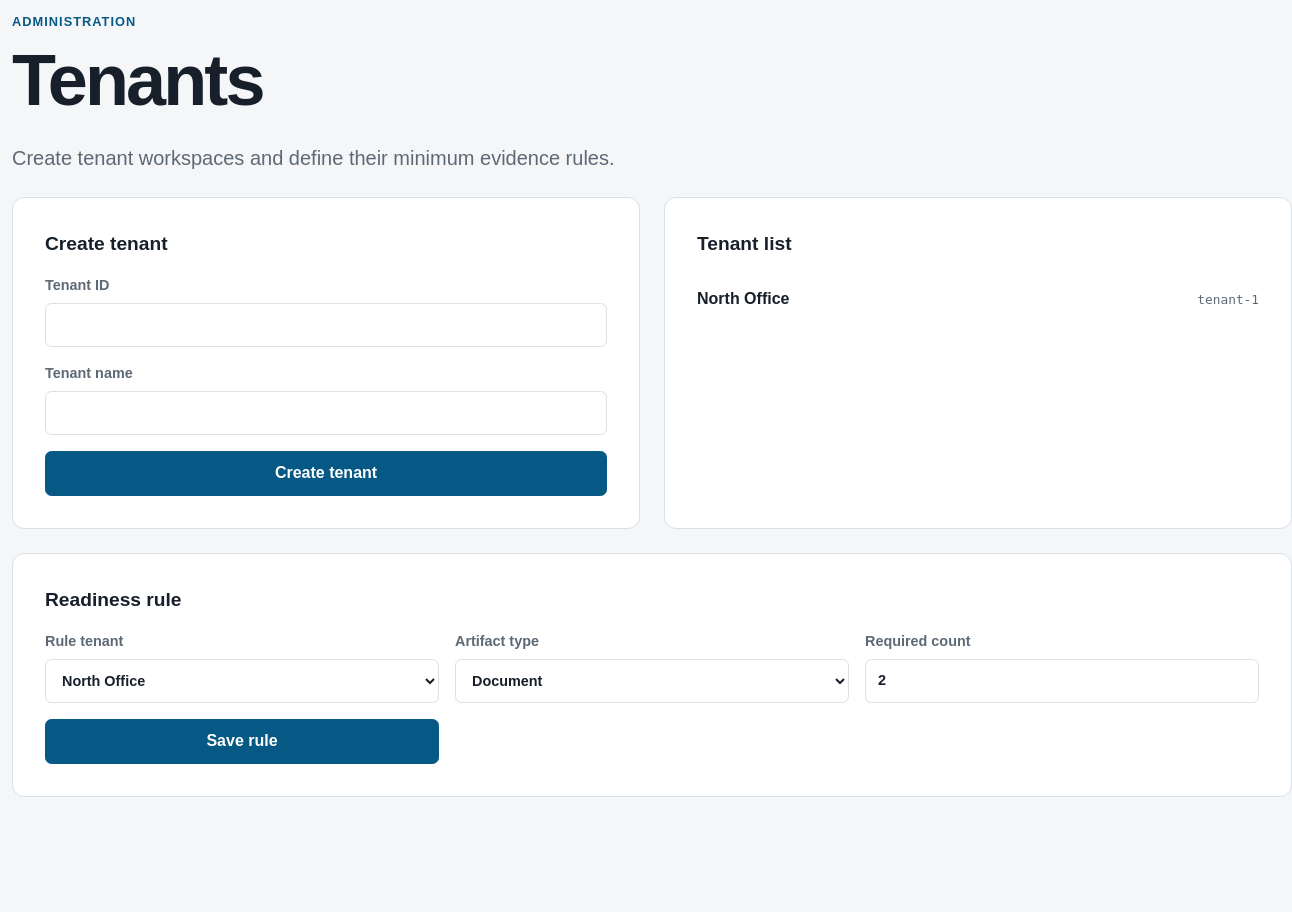
Test: TenantManager › loads and saves a count-at-least rule
Expected: the dropdown labelled "Artifact type" shows "Document", [455, 659, 849, 703]
Replace the text in the number field labelled "Required count" with "3" at (1062, 681), box [865, 659, 1259, 703]
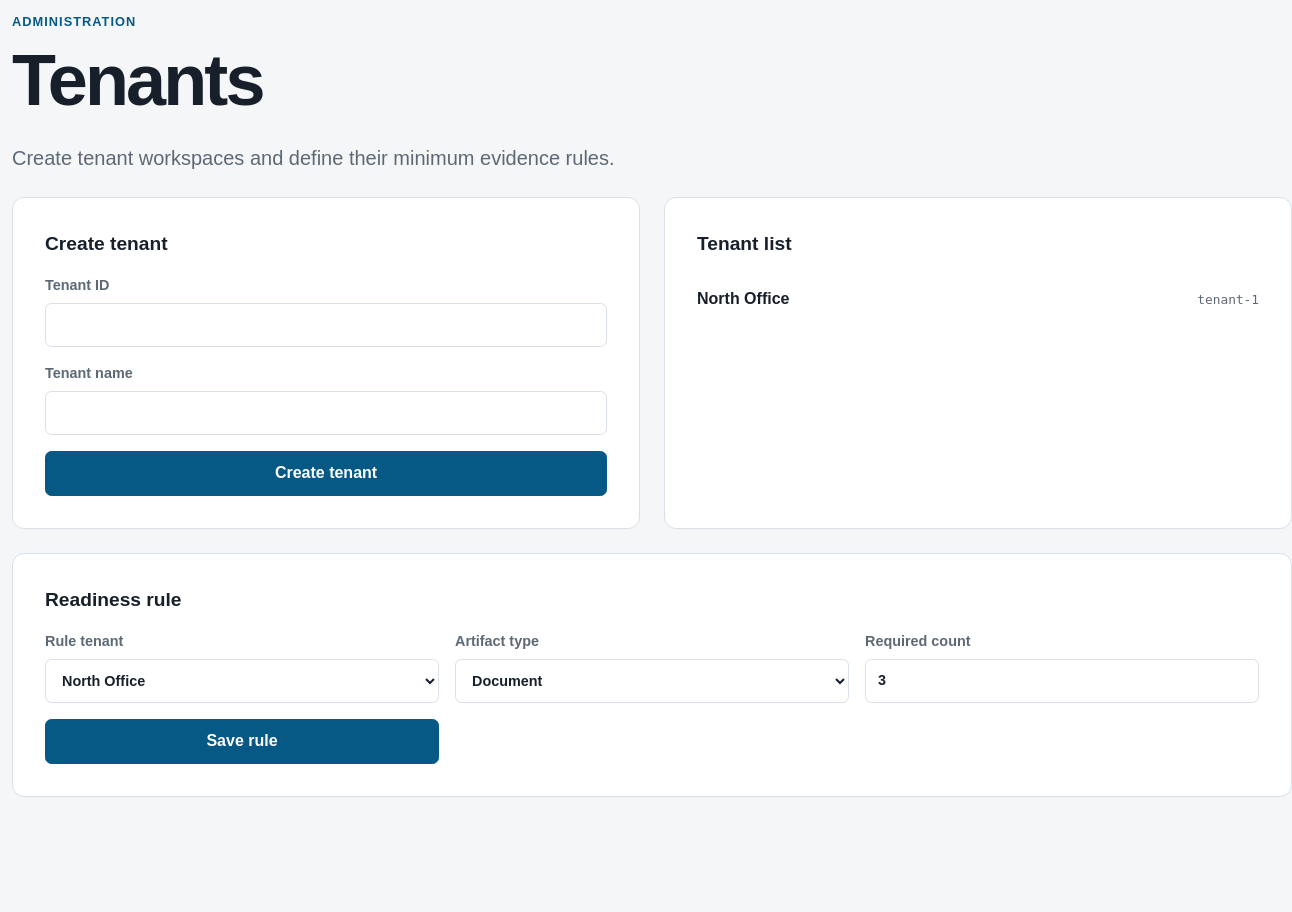
Click the button "Save rule".
click(242, 741)  # box [45, 719, 439, 764]
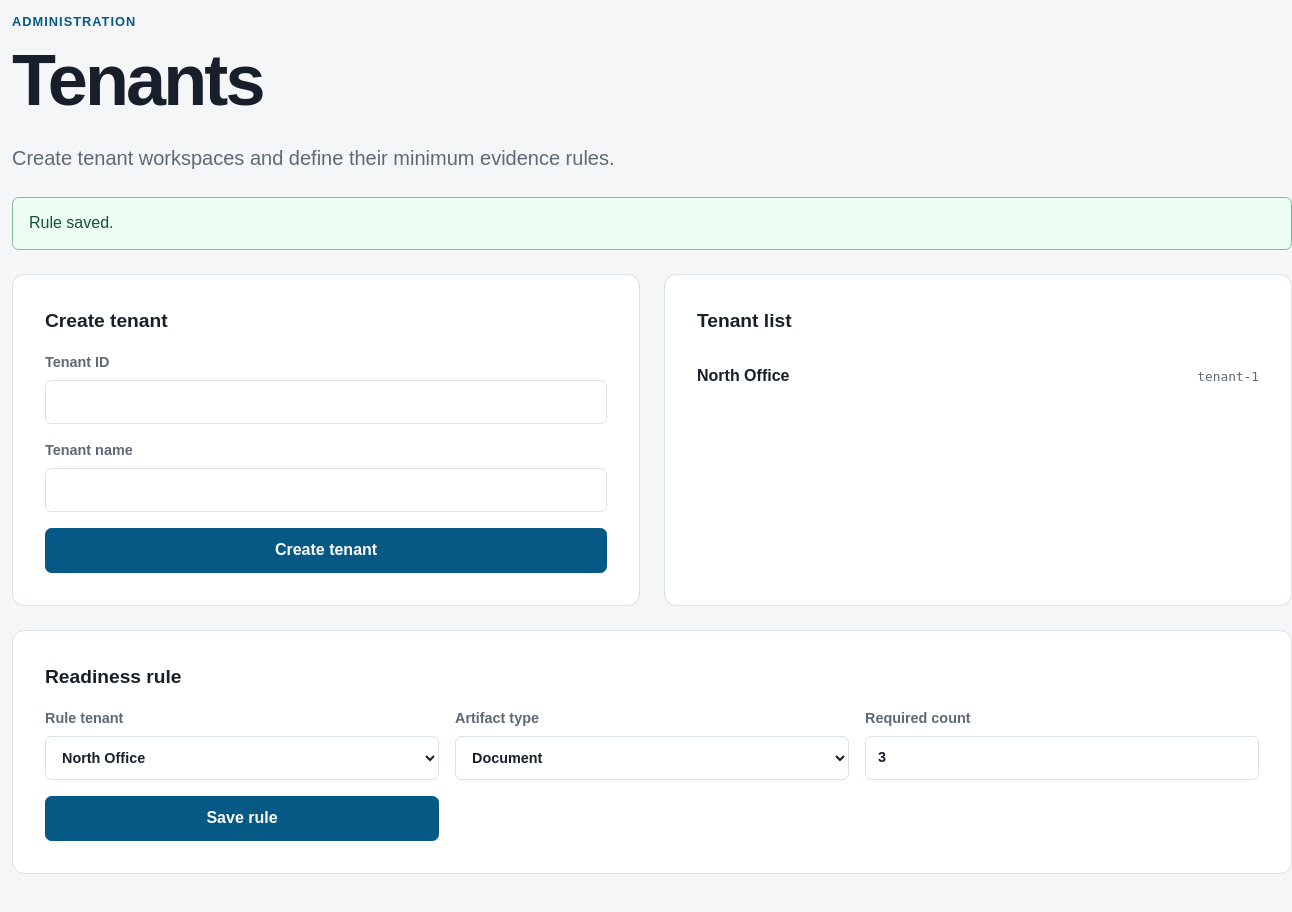
Result: the text "Rule saved." is shown at [12, 197, 1291, 250]
